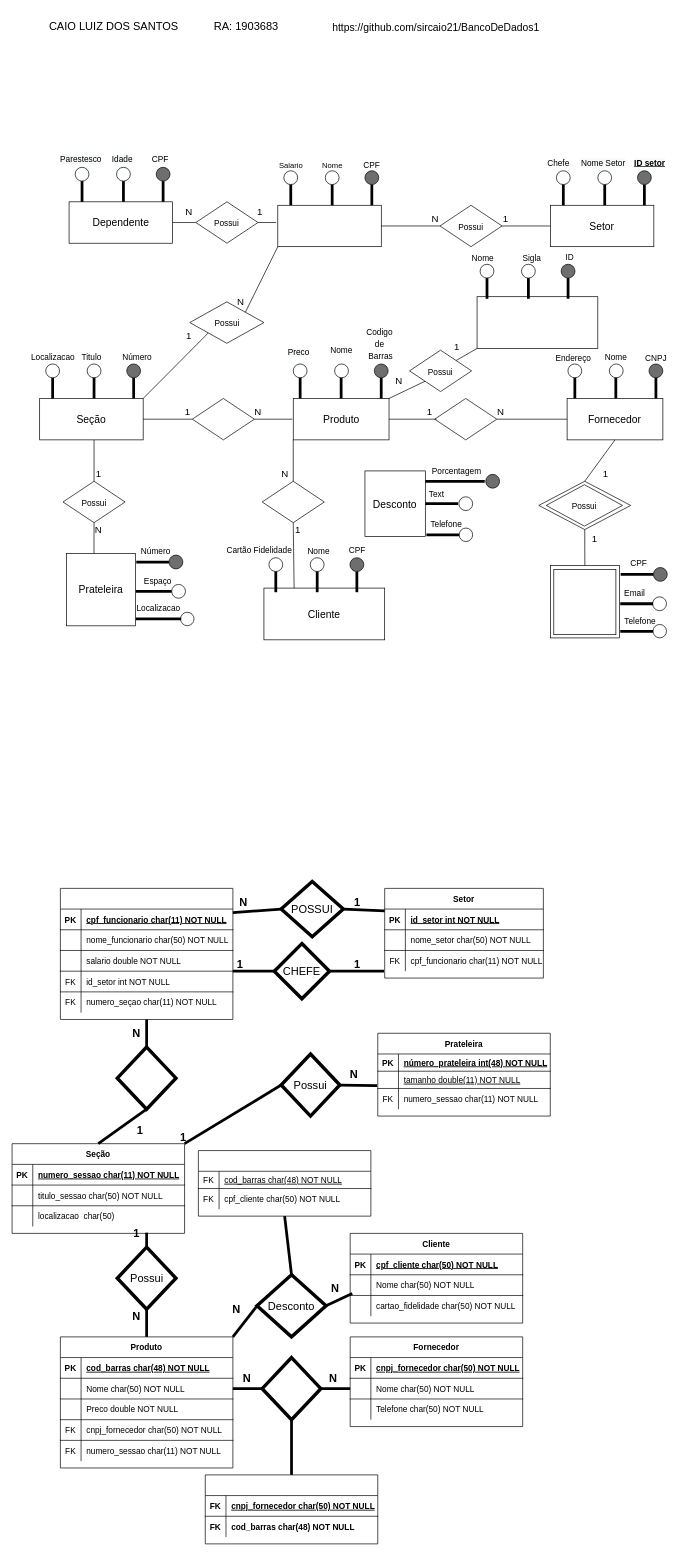
Some shapes in this 685 by 1556 pixel diagram are drawn without their labels. The shapes that lost their labels are listed below. From the top down, each one's box as (x1, y1, x2, y2) in pixels, then its label:
(277, 205, 381, 247): Funcionario
(476, 296, 598, 348): Unidade de Medida
(192, 398, 254, 440): Pertence à
(434, 398, 497, 440): Fonerce
(262, 481, 324, 523): Compra
(550, 565, 619, 638): Responsável
(60, 888, 233, 1019): Funcionário
(115, 1045, 177, 1111): Trabalha
(198, 1150, 371, 1216): Produto_cliente
(260, 1356, 322, 1421): Fornece
(205, 1474, 378, 1544): Produto_Fornecedor
